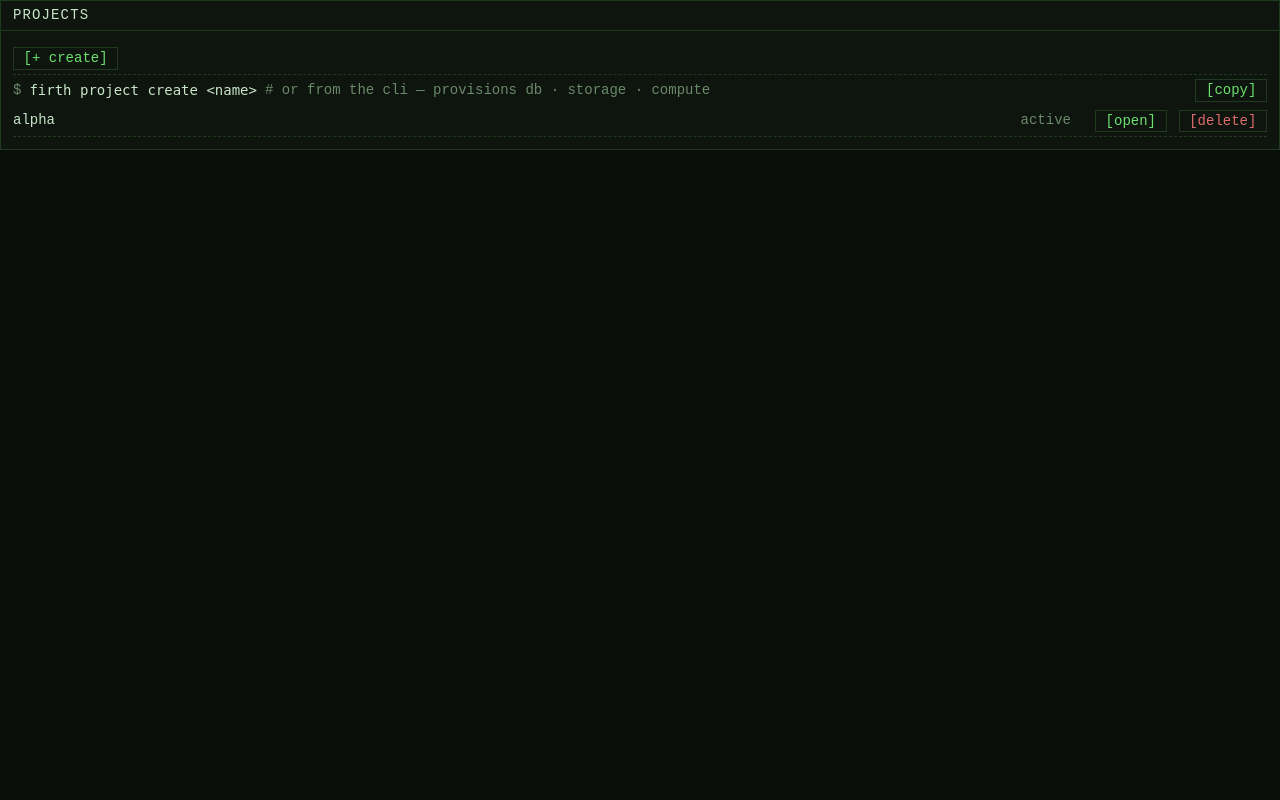
Test: Projects › a gated delete (approval_required) pops an approve prompt instead of silently doing nothing
This screenshot has width=1280, height=800.
Expected: the text "alpha" is shown, [13,112,55,128]
Click the button "[delete]" at (1223, 121), box [1179,110,1267,132]
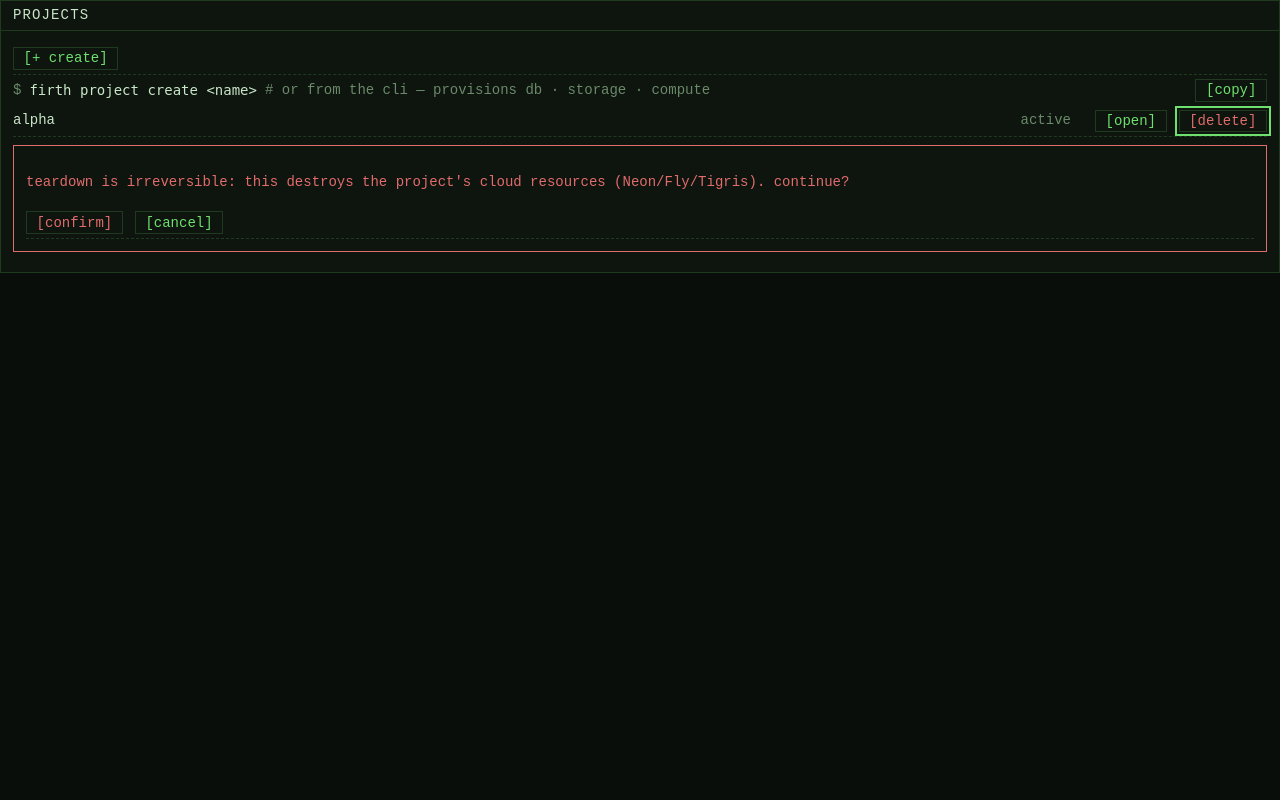
Click the button "[confirm]" at (74, 223), box [26,211,123,234]
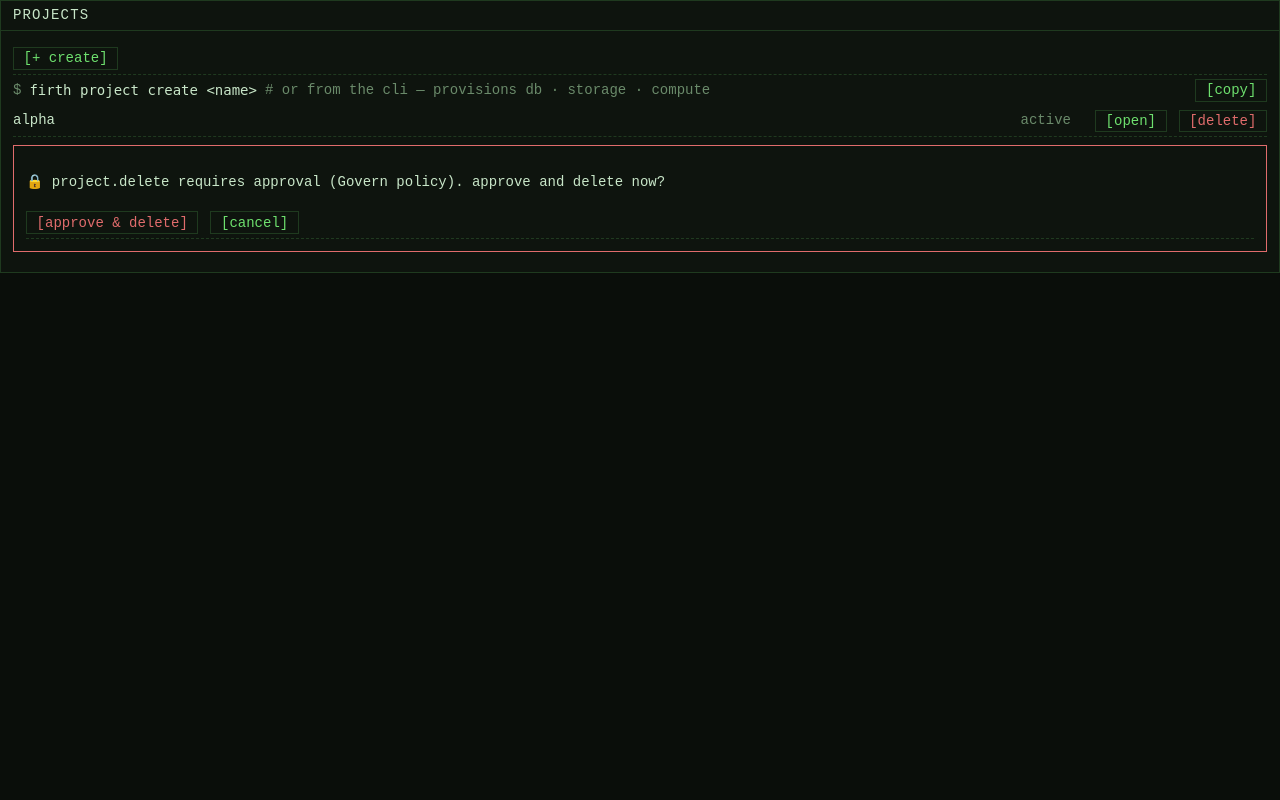
Expected: the text "requires approval" is shown, [44,174,665,190]
Expected: the button "[approve & delete]" is shown, [26,211,198,234]
